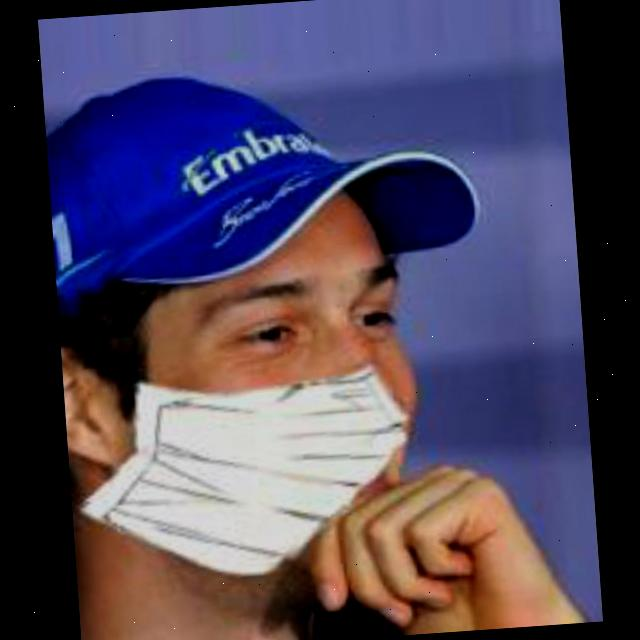suspicion: (105, 179, 510, 640)
